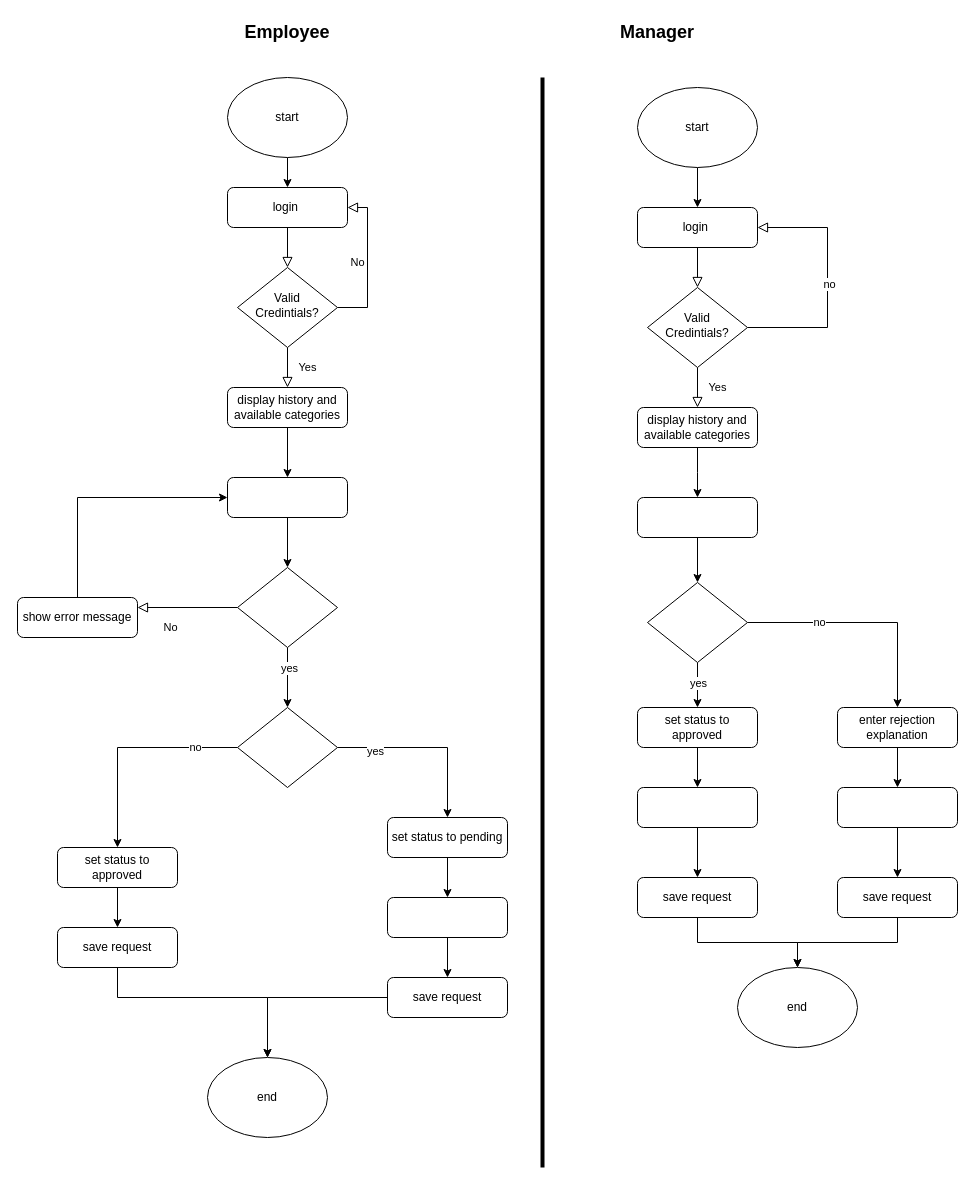
This 975x1186 diagram has some shape labels left out. Each missing label, with the box of its shape:
approve ?: (646, 582, 748, 662)
enter request data (date,category,....): (226, 476, 348, 518)
require approval?: (236, 706, 338, 788)
send email to employee: (636, 786, 758, 828)
send email to manager: (386, 896, 508, 938)
set status to rejected: (836, 786, 958, 828)
show pending approval requests: (636, 496, 758, 538)
valid request ?: (236, 566, 338, 648)
